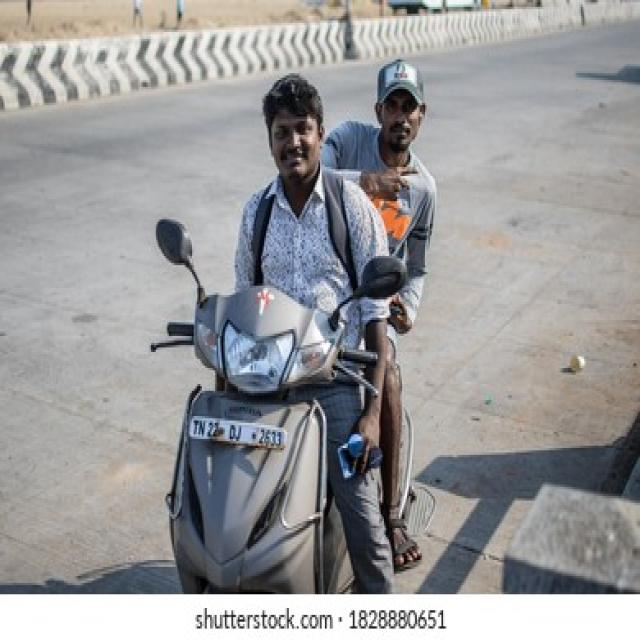number plate: (189, 414, 285, 449)
